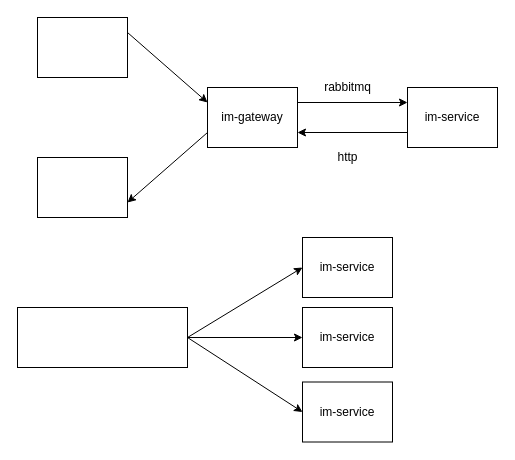
The diagram is 515 pixels wide and 460 high, and some of its shapes have lost their labels. The shapes that lost their labels are listed below. From the top down, each one's box as (x1, y1, x2, y2) in pixels, then its label:
(36, 16, 128, 78): 司机
(36, 156, 128, 218): 客服
(16, 306, 188, 368): 用户登陆 用户id 网关地址 网关端口
